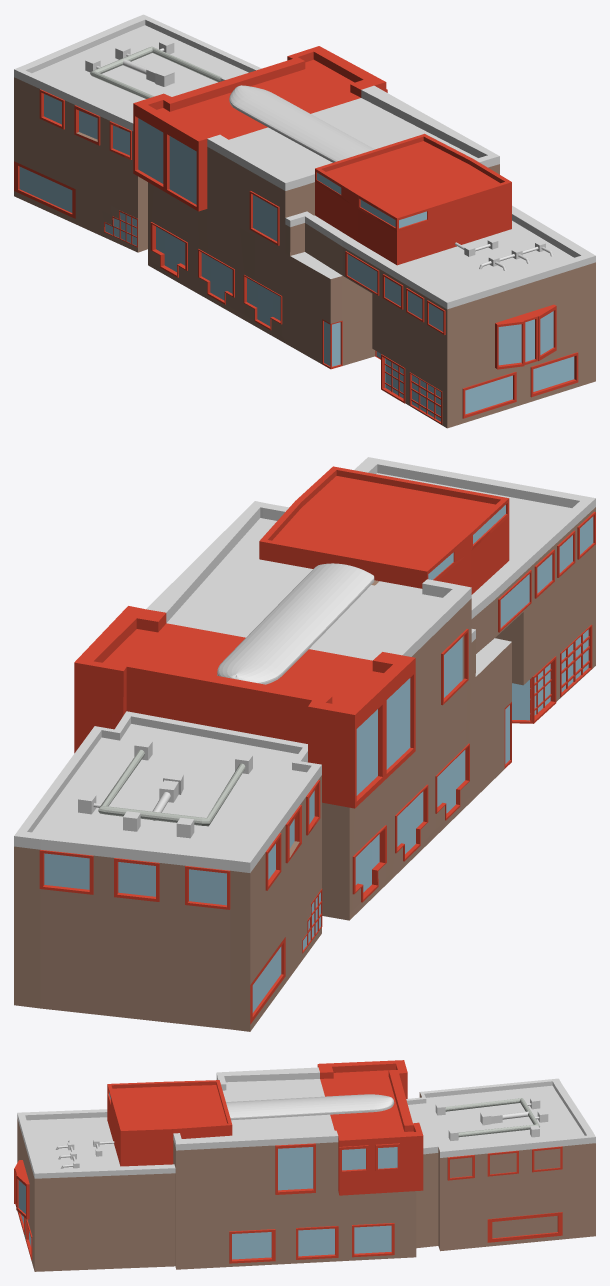
Rendered from gebouw A.fbx.
3 views of the same model, one above another, from view 1: azimuth 30°, elevation 25°; view 2: azimuth 150°, elevation 25°; view 3: azimuth 270°, elevation 25° (orthographic). The views are drawn at different scales.
Visible parts, largest first — view 1: Cube, Cylinder.007, Cylinder.009; view 2: Cube, Cylinder.007, Cylinder.009; view 3: Cube, Cylinder.007, Cylinder.009.
Boxes of the visible parts, x1,y1,x2,y2 form: Cube: [14, 14, 595, 428]; Cylinder.007: [229, 85, 374, 162]; Cylinder.009: [90, 46, 221, 98]; Cube: [14, 457, 595, 1031]; Cylinder.007: [217, 563, 374, 684]; Cylinder.009: [98, 749, 245, 826]; Cube: [14, 1060, 595, 1271]; Cylinder.007: [226, 1094, 394, 1120]; Cylinder.009: [445, 1098, 539, 1137].
Bounding box in the file's own units: 82.4 × 52.96 × 215.
